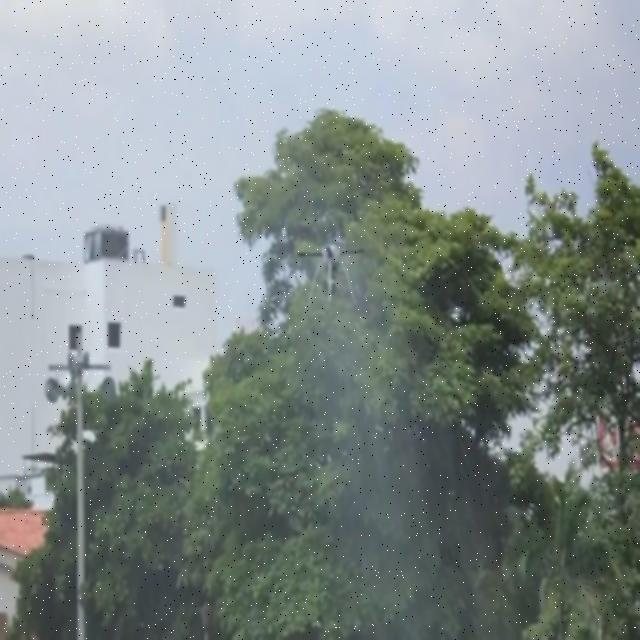UAV: (298, 244, 364, 306)
